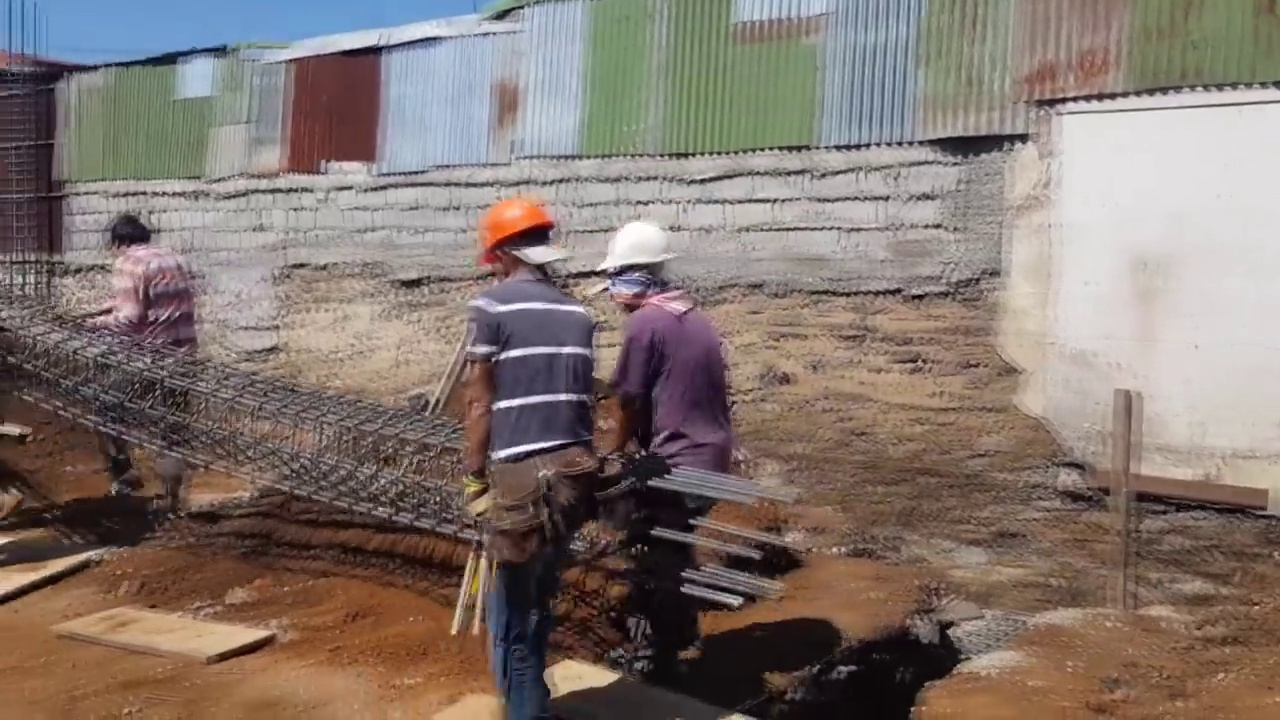helmet: (468, 201, 547, 271), (598, 210, 678, 275)
helmet-off: (97, 212, 142, 262)
helmet-on: (470, 197, 565, 294), (600, 218, 677, 317)
person: (457, 193, 602, 719), (577, 201, 738, 668), (97, 208, 199, 524)
